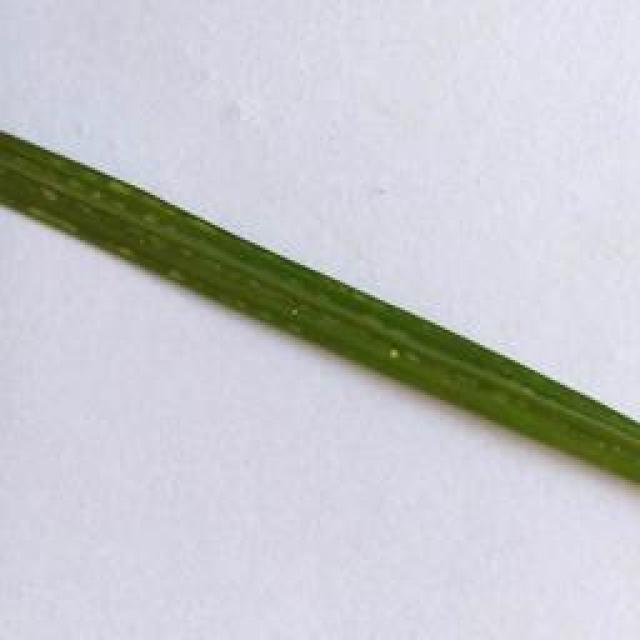Healthy-Plant: (0, 128, 640, 496)
